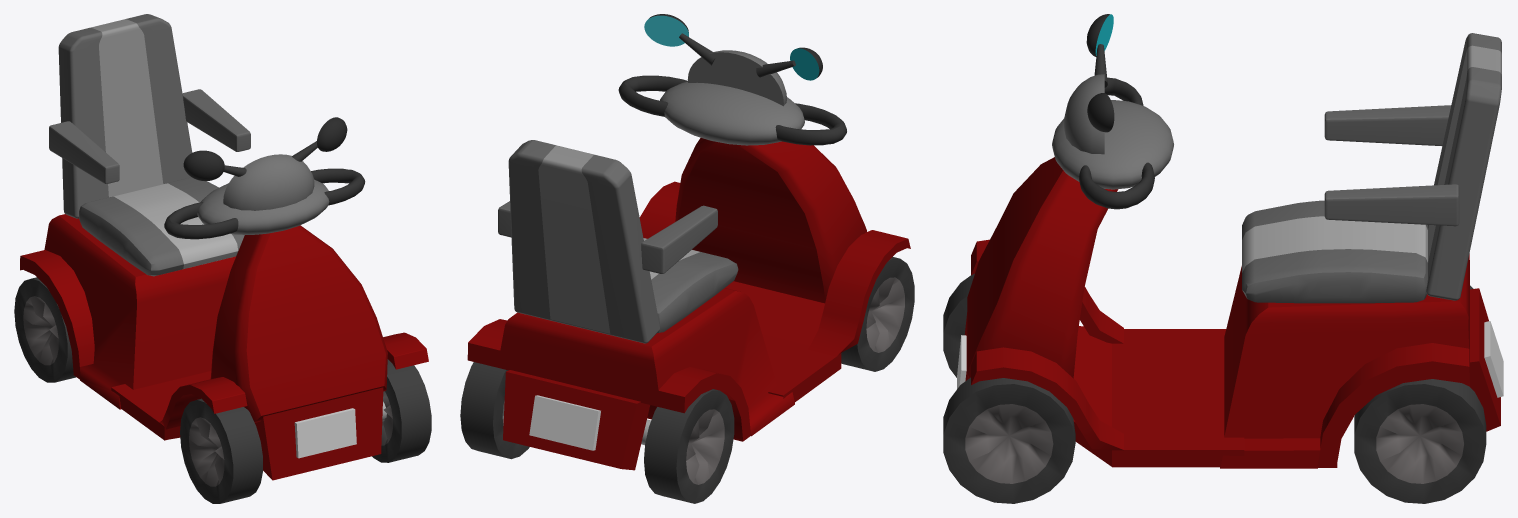
File: SeniorCarVer2.2.fbx
The picture shows the model from 3 angles, left to right: view 1: azimuth 30°, elevation 25°; view 2: azimuth 150°, elevation 25°; view 3: azimuth 270°, elevation 25°; orthographic projection. The views are drawn at different scales.
Parts seen in each view (by area): view 1: pCube7, pCube6, pCube9, pCube8, pCylinder23, pCube15, pCylinder20, pCylinder22, pSphere2, pSphere1, pCube10, pCube4 (+8 smaller); view 2: pCube9, pCube6, pCube7, pCylinder20, pCube14, pSphere1, pCylinder19, pCylinder23, pCube8, pCylinder21, pCube3, pCube4 (+8 smaller); view 3: pCube6, pCube7, pCube8, pCube4, pCylinder22, pCylinder21, pCube9, pSphere1, pCylinder17, pCube11, pCube10, pCube3 (+9 smaller).
Part boxes in pixels (x1=…): pCube7: x1=210, y1=225, x2=387, y2=422; pCube6: x1=20, y1=214, x2=235, y2=409; pCube9: x1=58, y1=14, x2=192, y2=218; pCube8: x1=79, y1=177, x2=244, y2=276; pCylinder23: x1=180, y1=398, x2=262, y2=503; pCube15: x1=255, y1=387, x2=383, y2=480; pCylinder20: x1=14, y1=277, x2=75, y2=382; pCylinder22: x1=372, y1=359, x2=431, y2=462; pSphere2: x1=223, y1=154, x2=314, y2=210; pSphere1: x1=197, y1=179, x2=329, y2=234; pCube10: x1=49, y1=121, x2=119, y2=183; pCube4: x1=111, y1=371, x2=211, y2=440; pCube9: x1=508, y1=140, x2=659, y2=343; pCube6: x1=467, y1=288, x2=794, y2=441; pCube7: x1=675, y1=138, x2=866, y2=303; pCylinder20: x1=644, y1=389, x2=734, y2=503; pCube14: x1=503, y1=370, x2=650, y2=470; pSphere1: x1=660, y1=81, x2=804, y2=145; pCylinder19: x1=808, y1=230, x2=910, y2=356; pCylinder23: x1=841, y1=257, x2=914, y2=371; pCube8: x1=643, y1=238, x2=738, y2=332; pCylinder21: x1=460, y1=362, x2=529, y2=459; pCube3: x1=725, y1=281, x2=824, y2=345; pCube4: x1=762, y1=333, x2=841, y2=402; pCube6: x1=1220, y1=253, x2=1469, y2=468; pCube7: x1=967, y1=157, x2=1118, y2=378; pCube8: x1=1242, y1=200, x2=1427, y2=303; pCube4: x1=1112, y1=329, x2=1244, y2=467; pCylinder22: x1=943, y1=377, x2=1075, y2=503; pCylinder21: x1=1354, y1=379, x2=1486, y2=503; pCube9: x1=1426, y1=33, x2=1501, y2=300; pSphere1: x1=1052, y1=100, x2=1173, y2=189; pCylinder17: x1=971, y1=347, x2=1123, y2=450; pCube11: x1=1324, y1=184, x2=1459, y2=226; pCube10: x1=1324, y1=105, x2=1451, y2=145; pCube3: x1=1073, y1=326, x2=1111, y2=466.
Size of the model in its own units: 2.55 by 3.54 by 4.64.
